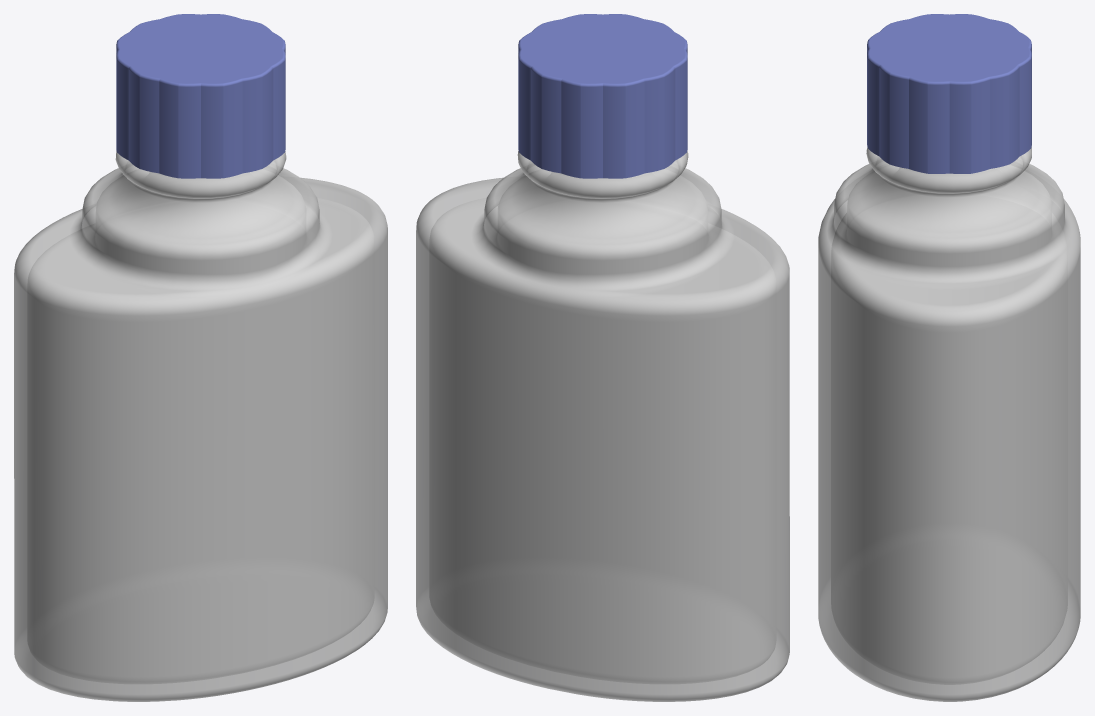
File: Embalagem.glb
3 renders of one model, left to right at view 1: azimuth 30°, elevation 25°; view 2: azimuth 150°, elevation 25°; view 3: azimuth 270°, elevation 25°, orthographic. The views are drawn at different scales.
Visible parts, largest first — view 1: Corpo2, Corpo1; view 2: Corpo2, Corpo1; view 3: Corpo2, Corpo1.
Boxes of the visible parts, x1,y1,x2,y2 form: Corpo2: (14, 150, 387, 701); Corpo1: (116, 14, 285, 178); Corpo2: (416, 151, 789, 701); Corpo1: (518, 14, 687, 178); Corpo2: (818, 147, 1080, 701); Corpo1: (867, 14, 1031, 173).
Size of the model in its own units: 30.5 by 49.51 by 20.47.
